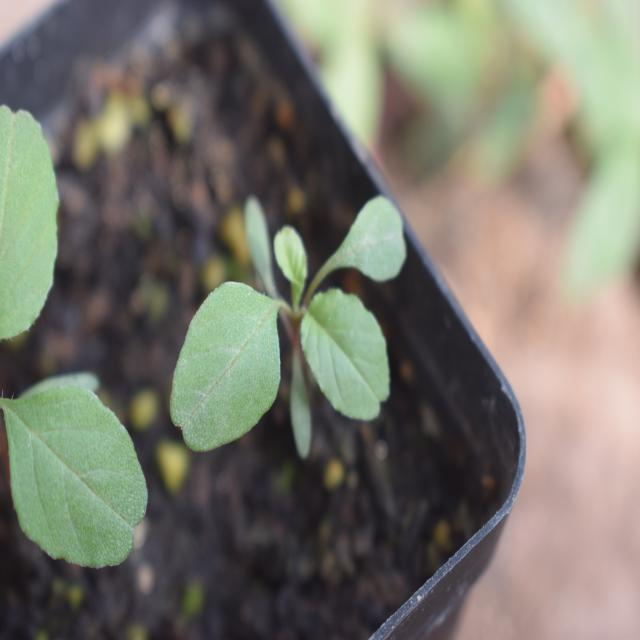pigweed: (155, 184, 418, 459)
